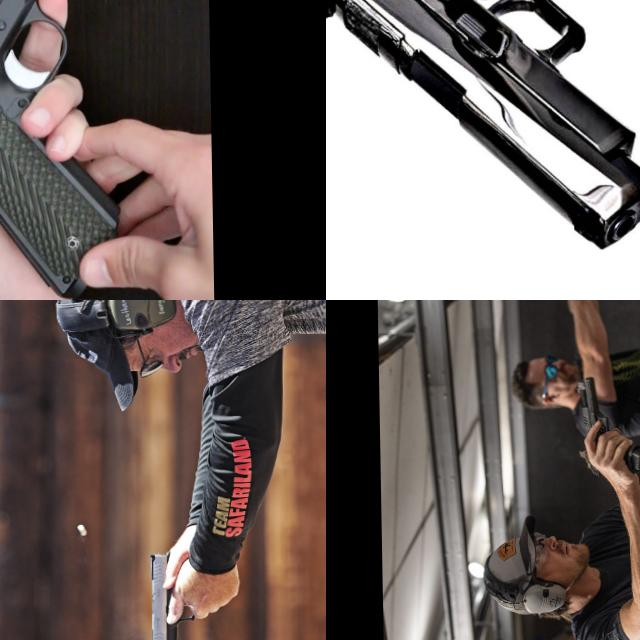handgun: (326, 0, 640, 257), (0, 0, 131, 300), (147, 550, 196, 640), (572, 372, 610, 478), (536, 300, 568, 330)
